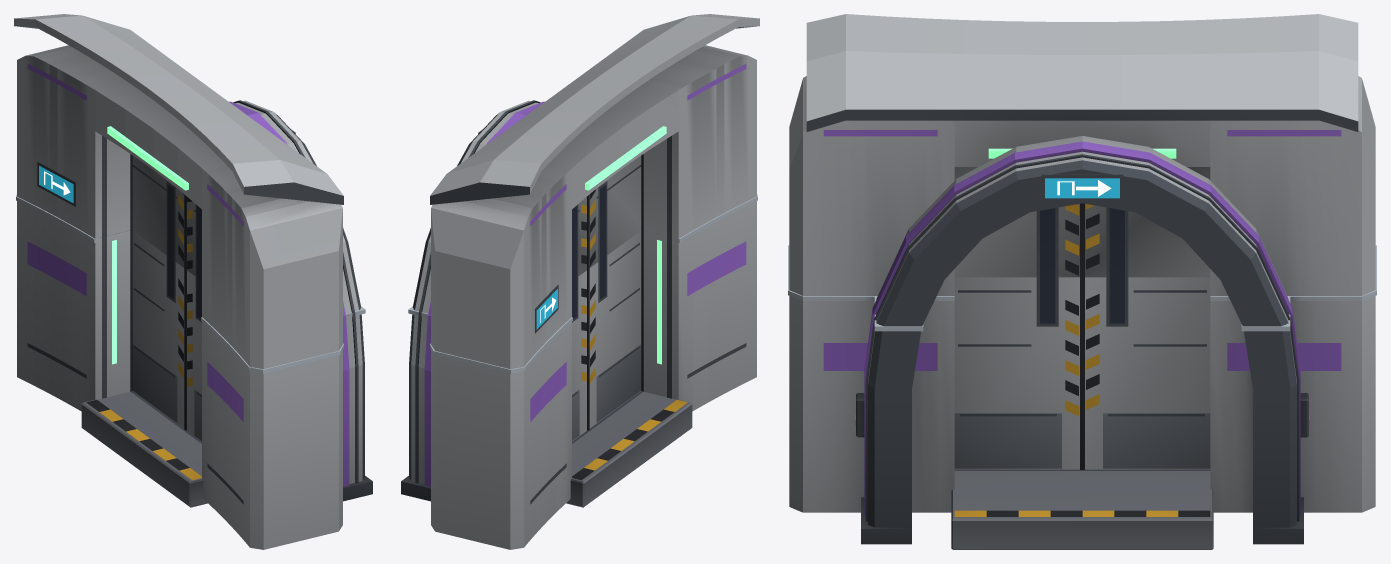
Rendered from doorway_r925.glb.
3 renders of one model, left to right at view 1: azimuth 30°, elevation 25°; view 2: azimuth 150°, elevation 25°; view 3: azimuth 270°, elevation 25°, orthographic. The views are drawn at different scales.
Visible parts, largest first — view 1: FrameTop, Frame, DoorR, DoorRTop, DoorL, FrameCap, DoorLTop, Sign, Status, Lights; view 2: FrameTop, Frame, DoorL, DoorLTop, DoorR, FrameCap, DoorRTop, Status, Sign, Lights; view 3: FrameTop, Frame, DoorL, DoorR, DoorLTop, DoorRTop, Sign, FrameCap.
Part boxes in pixels (left/top/right/bottom): FrameTop: left=14, top=14, right=360, bottom=369; Frame: left=17, top=201, right=372, bottom=549; DoorR: left=132, top=231, right=185, bottom=429; DoorRTop: left=132, top=156, right=185, bottom=269; DoorL: left=185, top=270, right=201, bottom=441; FrameCap: left=16, top=194, right=365, bottom=373; DoorLTop: left=185, top=195, right=201, bottom=281; Sign: left=37, top=129, right=295, bottom=206; Status: left=107, top=126, right=188, bottom=190; Lights: left=112, top=240, right=116, bottom=364; FrameTop: left=413, top=14, right=759, bottom=369; Frame: left=401, top=201, right=756, bottom=549; DoorL: left=588, top=231, right=641, bottom=429; DoorLTop: left=588, top=156, right=641, bottom=269; DoorR: left=572, top=270, right=588, bottom=441; FrameCap: left=408, top=194, right=757, bottom=373; DoorRTop: left=572, top=195, right=588, bottom=281; Status: left=585, top=126, right=666, bottom=190; Sign: left=478, top=129, right=558, bottom=333; Lights: left=657, top=240, right=661, bottom=364; FrameTop: left=789, top=14, right=1375, bottom=326; Frame: left=789, top=296, right=1375, bottom=549; DoorL: left=954, top=277, right=1082, bottom=469; DoorR: left=1082, top=277, right=1210, bottom=469; DoorLTop: left=954, top=167, right=1082, bottom=277; DoorRTop: left=1082, top=167, right=1210, bottom=277; Sign: left=1041, top=174, right=1123, bottom=201; FrameCap: left=788, top=245, right=1376, bottom=331.
Bounding box in the file's own units: 1.23 × 2.93 × 3.46.
